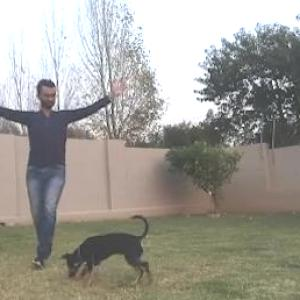takeoff: (1, 68, 134, 274)
